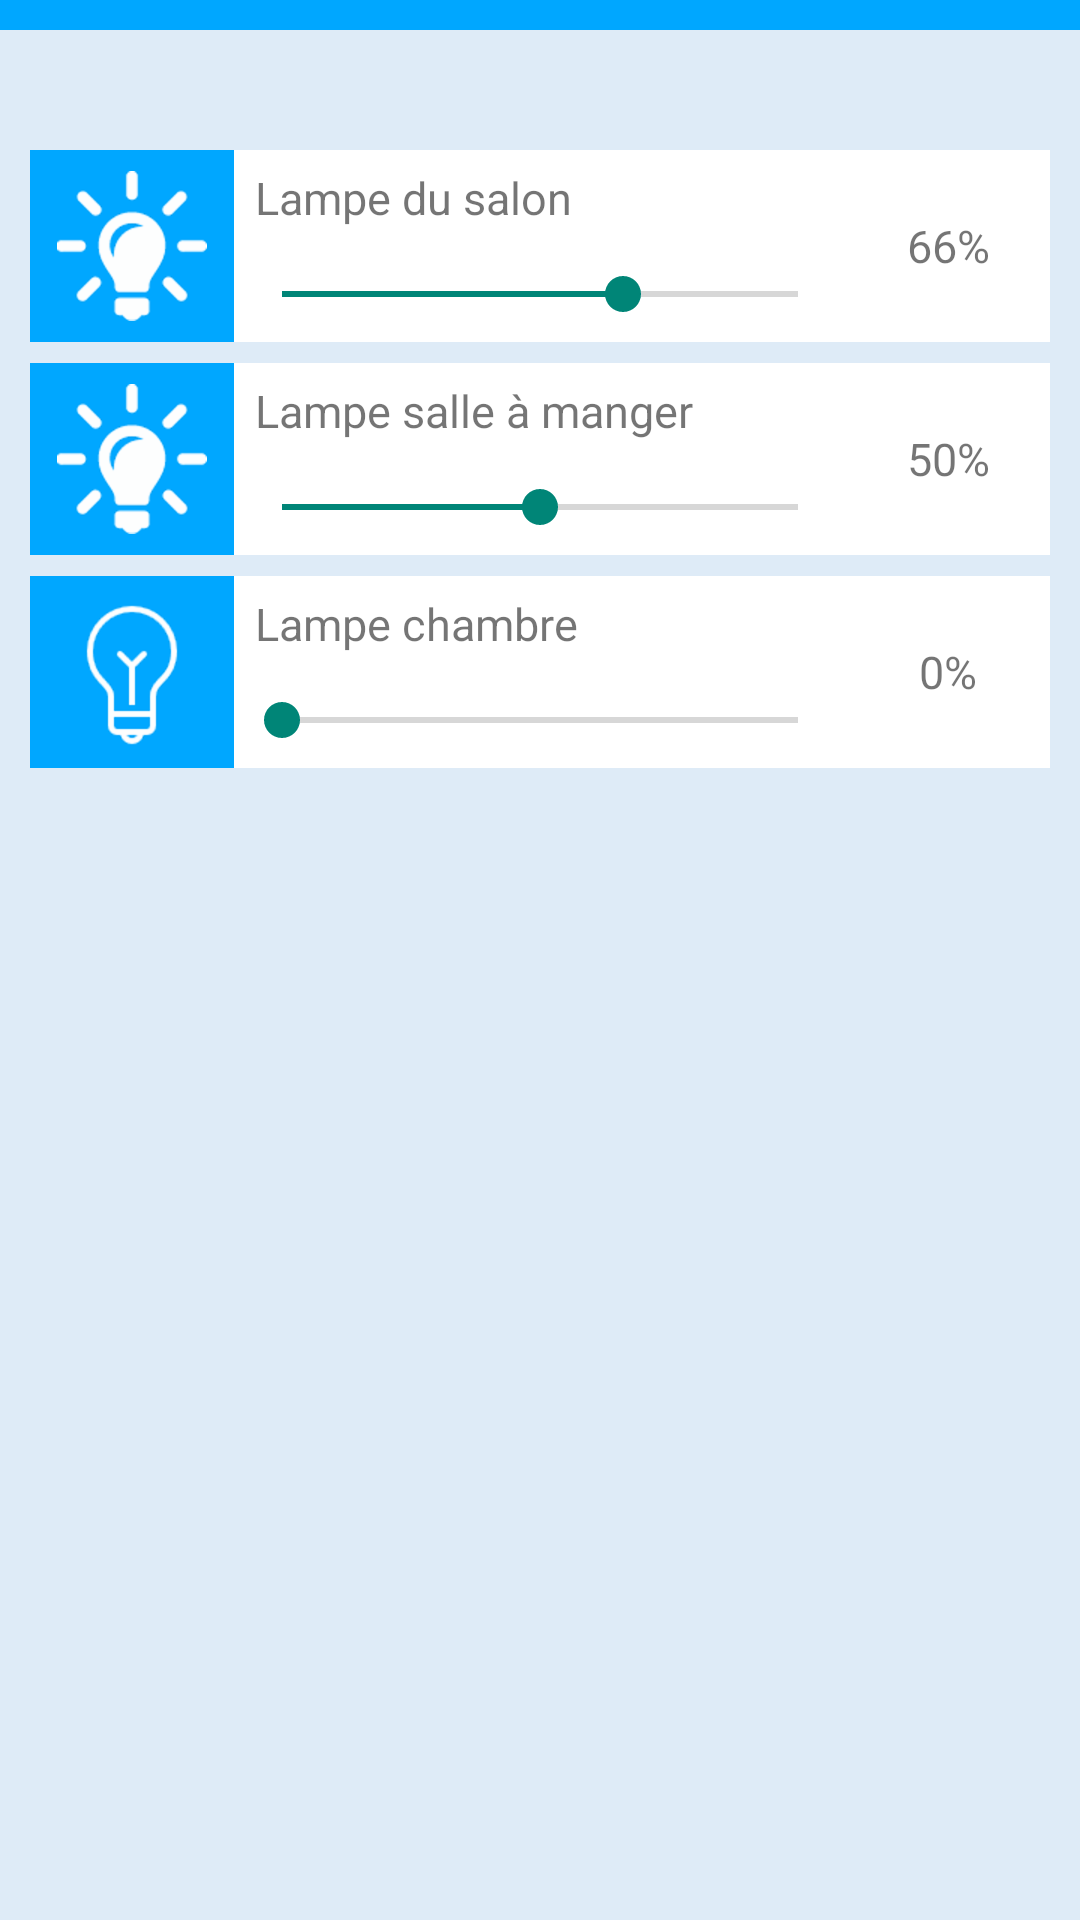

Icons on this 1080px×1920px Android screen, each with its box as (x1, y1, x2, y2):
idea: (30, 150, 234, 342), (30, 363, 234, 555)
idea off: (30, 576, 234, 768)
